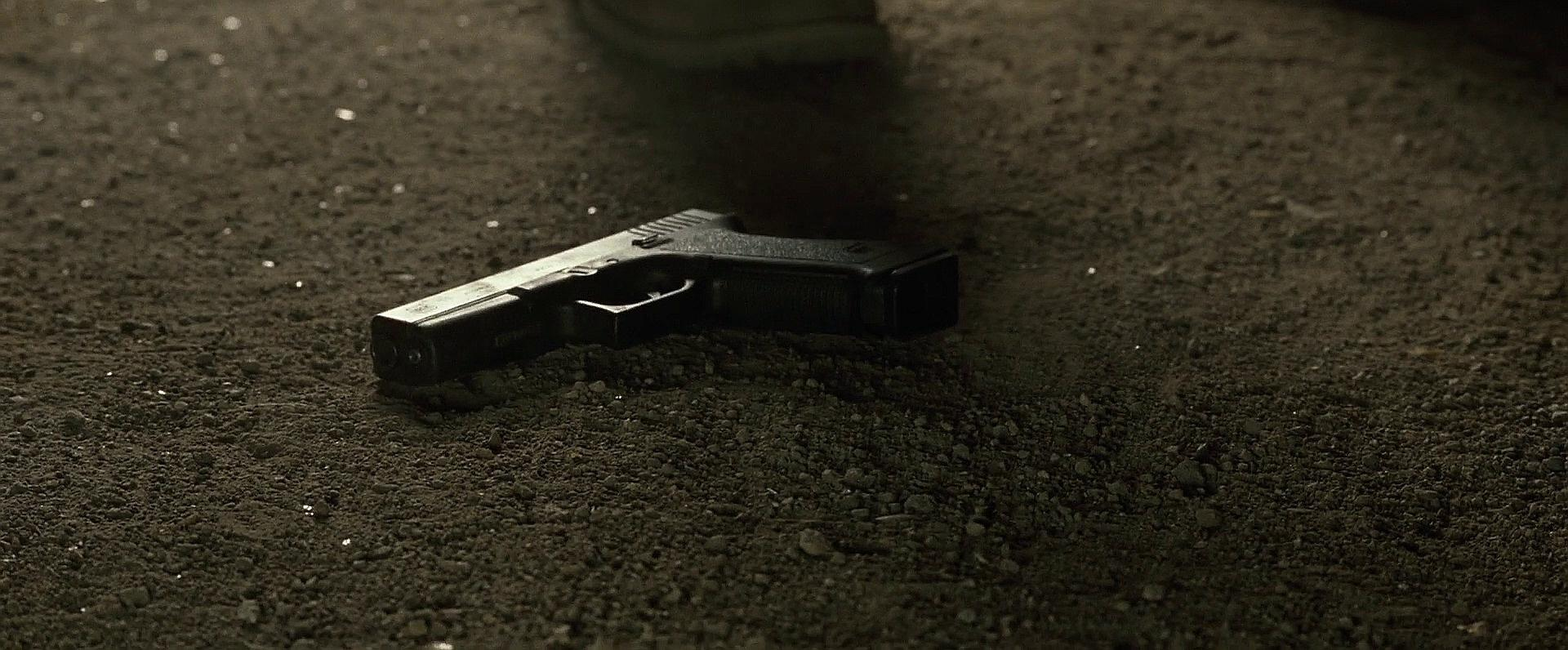gun: (356, 194, 969, 400)
